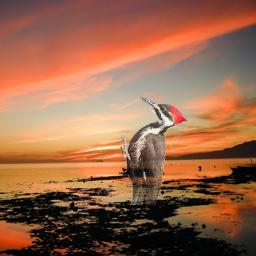Woodpecker: (120, 95, 187, 205)
